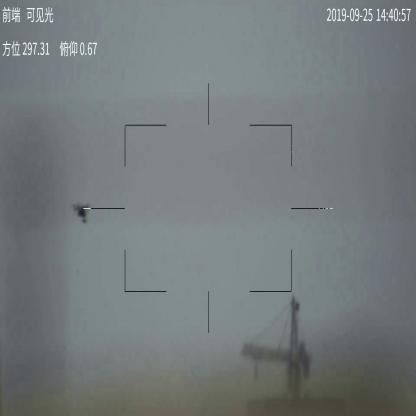uav: (72, 202, 92, 224)
